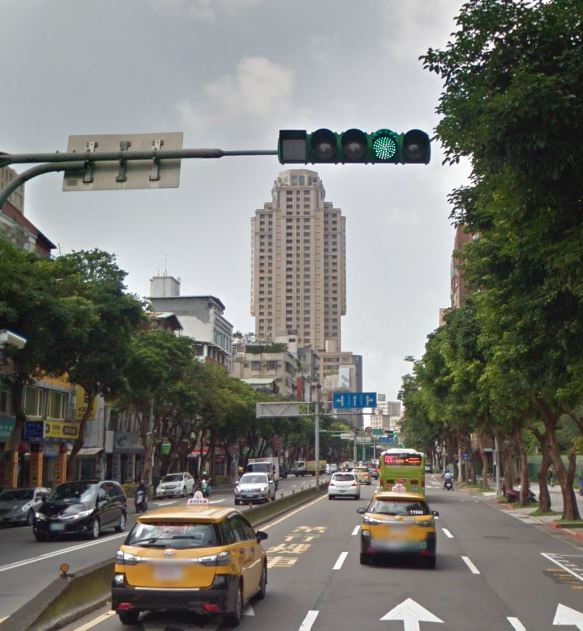Traffic_light_green: (277, 125, 433, 168)
car: (114, 503, 274, 622), (354, 485, 441, 569), (33, 474, 135, 541), (232, 469, 278, 504)
